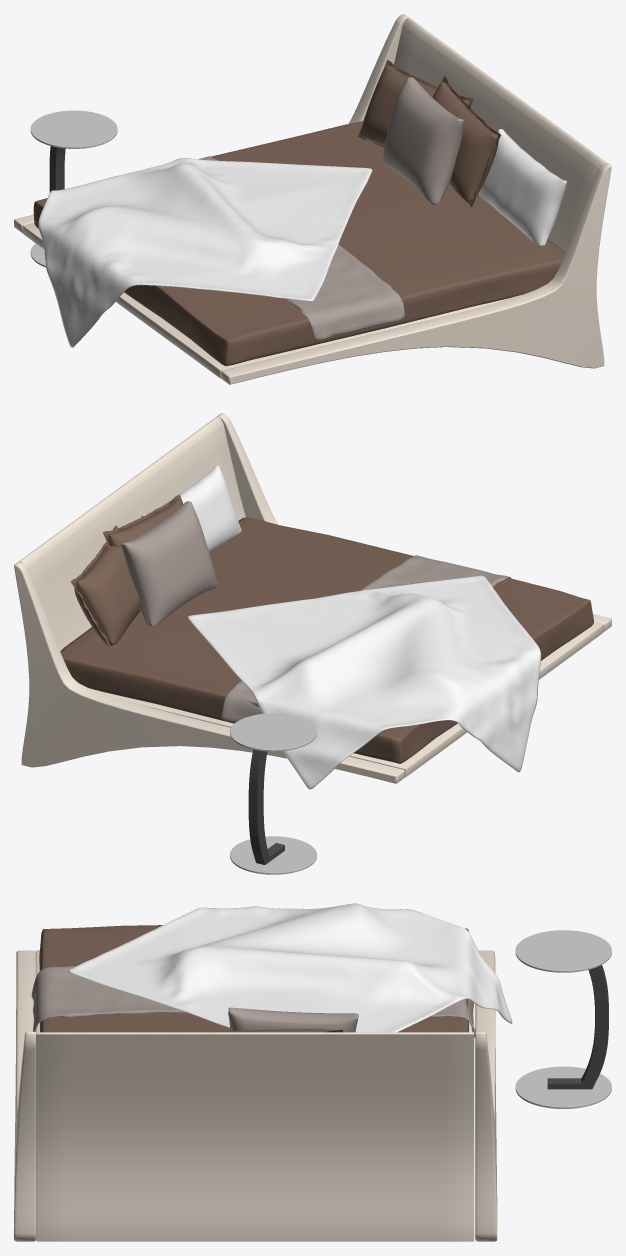
The model's file is dylan_bed.glb.
3 views of the same model, one above another, from view 1: azimuth 30°, elevation 25°; view 2: azimuth 150°, elevation 25°; view 3: azimuth 270°, elevation 25° (orthographic). The views are drawn at different scales.
Parts seen in each view (by area): view 1: cover 2, Mattress, Frame, Pillow03, Cover, Pillow, stand, Pillow02, Pillow04; view 2: cover 2, Frame, Mattress, Pillow03, stand, Pillow04, Cover, Pillow, Pillow02; view 3: Frame, cover 2, stand, Mattress, Cover, Pillow03.
Part boxes in pixels (x1,y1,x2,y2): cover 2: [38, 158, 372, 347]; Mattress: [33, 121, 565, 366]; Frame: [14, 14, 611, 384]; Pillow03: [383, 77, 463, 204]; Cover: [198, 156, 404, 340]; Pillow: [478, 129, 566, 245]; stand: [30, 110, 117, 267]; Pillow02: [432, 75, 501, 207]; Pillow04: [358, 59, 473, 147]; cover 2: [187, 575, 541, 789]; Frame: [14, 413, 611, 783]; Mattress: [60, 517, 593, 763]; Pillow03: [121, 501, 217, 626]; stand: [230, 713, 316, 874]; Pillow04: [71, 525, 140, 650]; Cover: [221, 555, 511, 722]; Pillow: [141, 465, 241, 551]; Pillow02: [103, 494, 183, 548]; Frame: [14, 950, 497, 1241]; cover 2: [68, 903, 512, 1032]; stand: [515, 930, 611, 1108]; Mattress: [39, 925, 468, 1032]; Cover: [31, 966, 475, 1038]; Pillow03: [228, 1007, 358, 1032].
Size of the model in its own units: 5.13 by 2.26 by 5.71.
